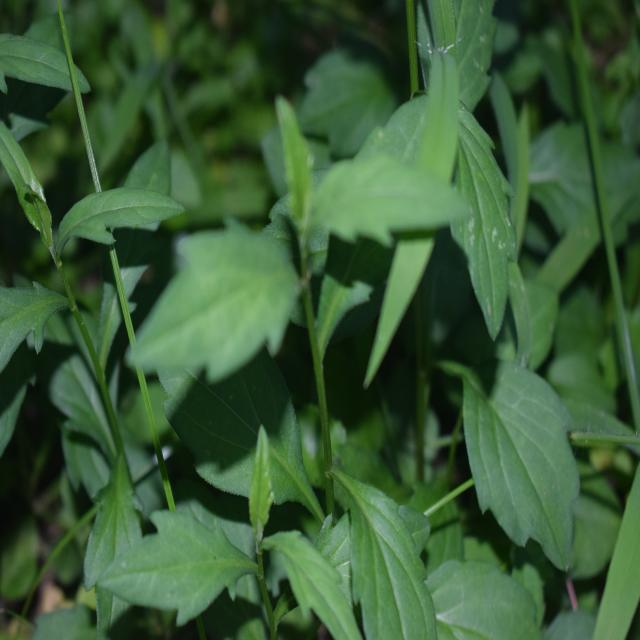Indian aster: (350, 13, 594, 544), (104, 436, 447, 640)
